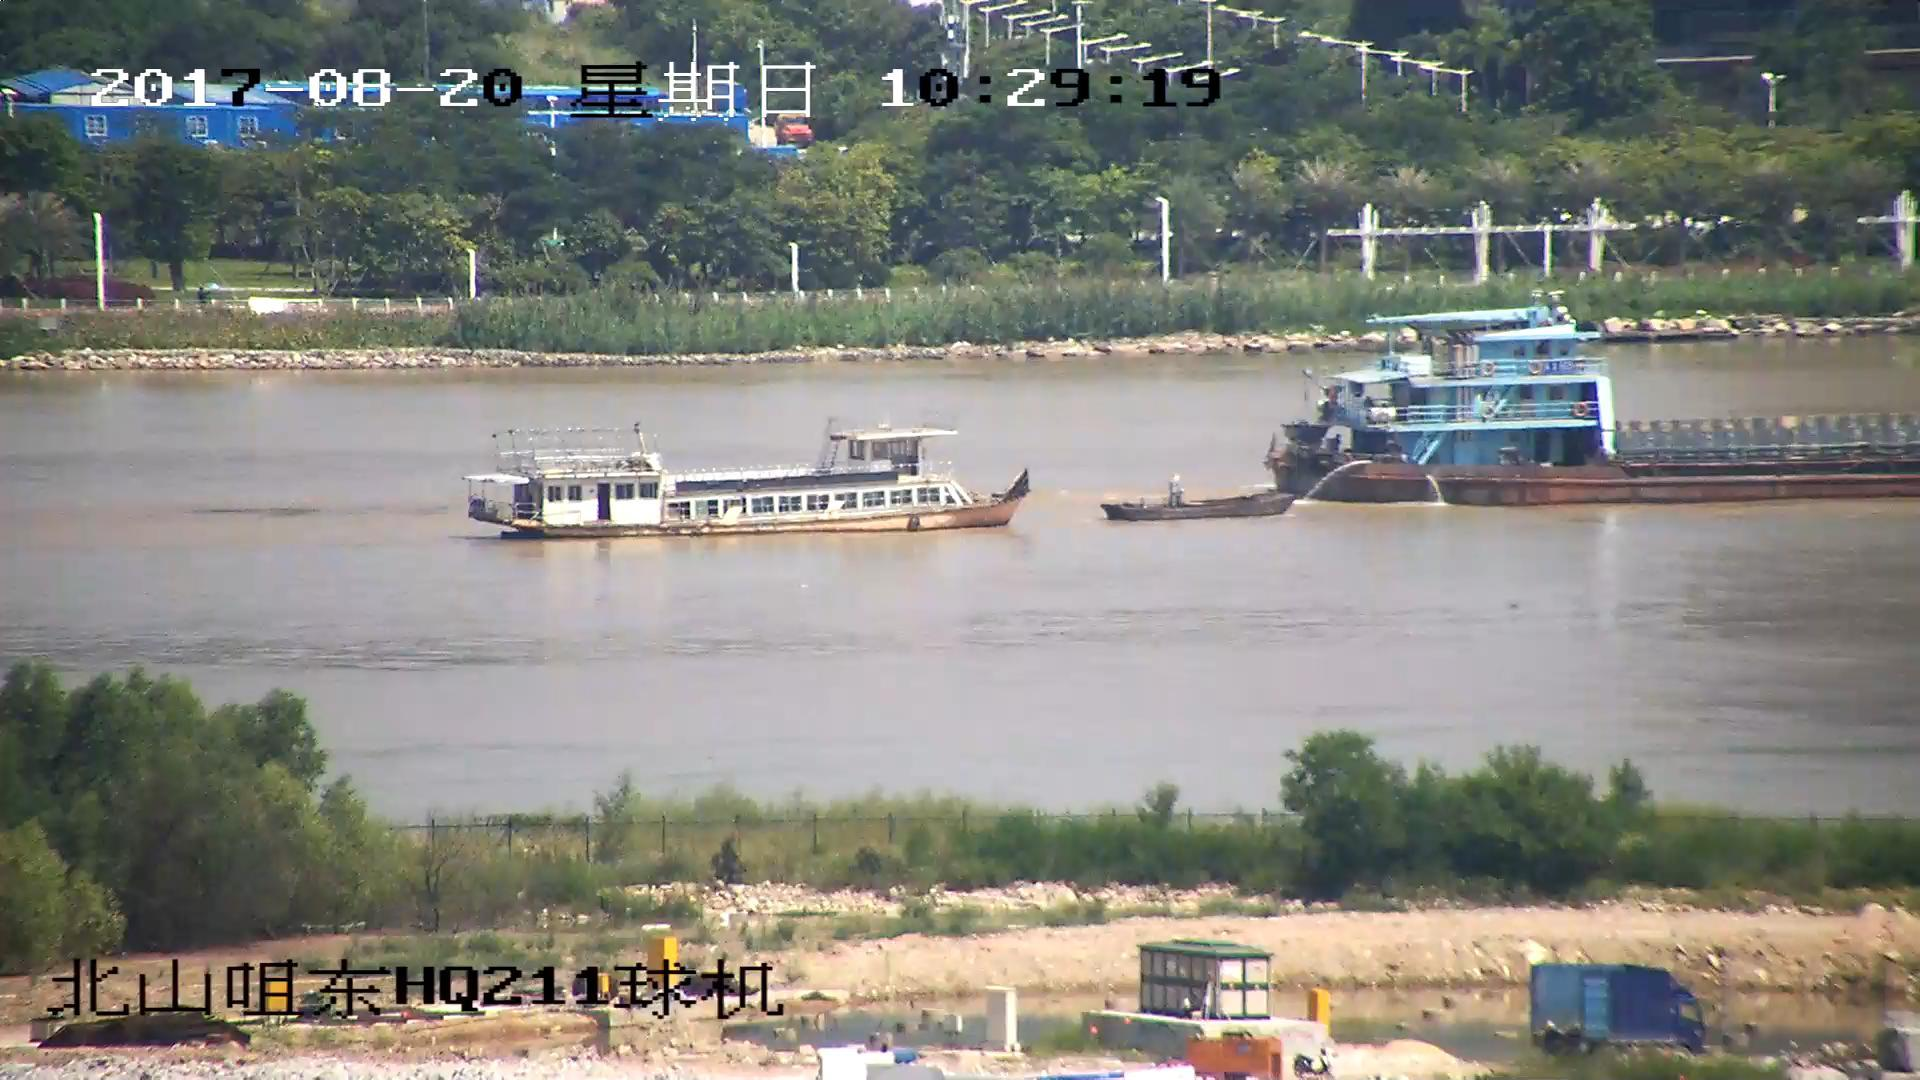Ship: (1266, 302, 1920, 506), (469, 421, 1033, 543), (1102, 469, 1298, 525)
